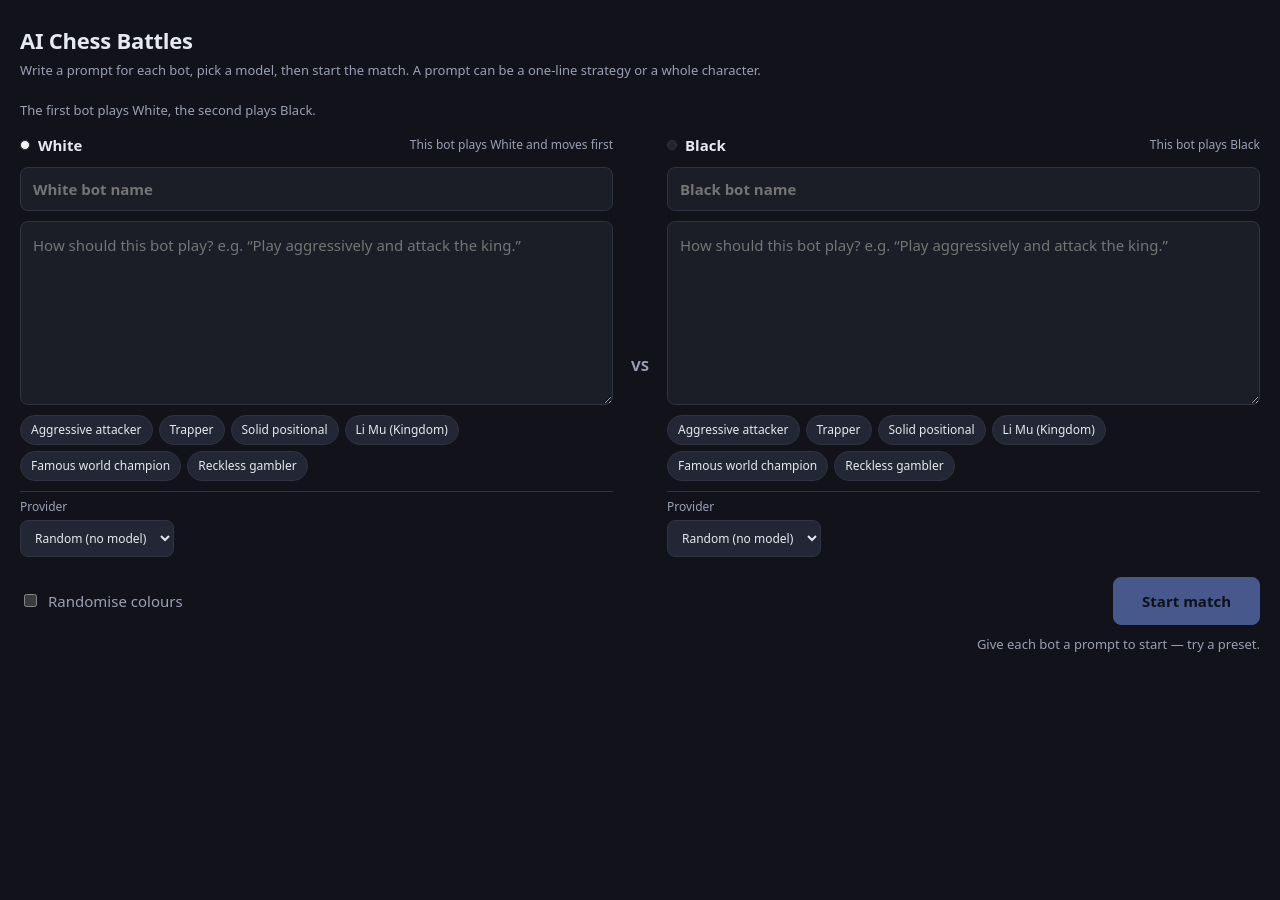
Test: SetupScreen colours › stops claiming a colour once randomisation is switched on
The image size is (1280, 900).
Click the checkbox labelled "Randomise colours": [30, 601] box [24,594,37,607]
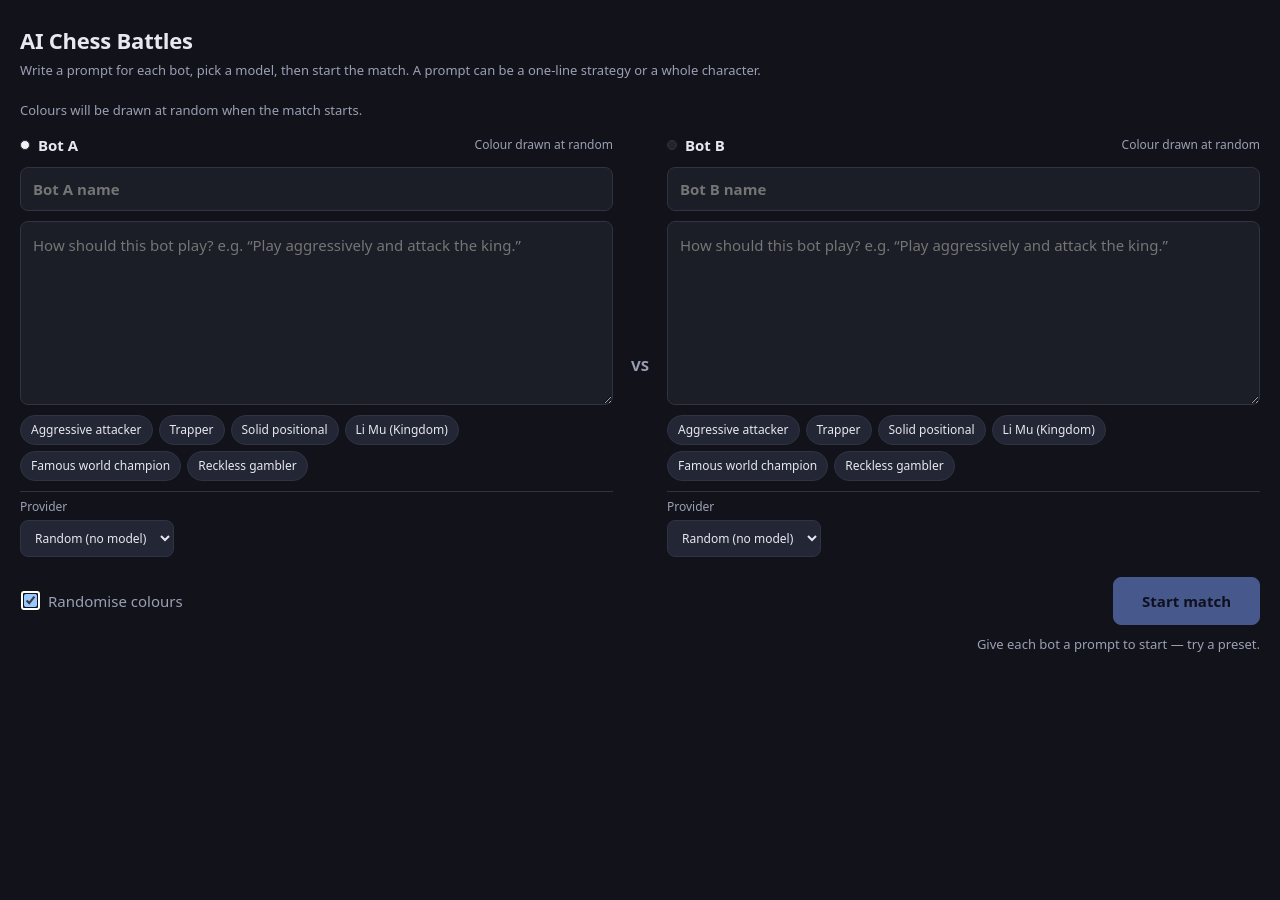
expect the text "White" is gone: met
expect the element "Bot A" is shown: met, box [20,134,613,556]
expect the element "Bot B" is shown: met, box [667,134,1260,556]
